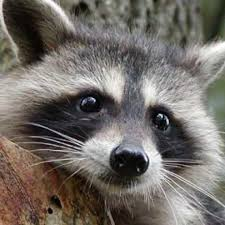raccoon: (3, 2, 220, 204)
